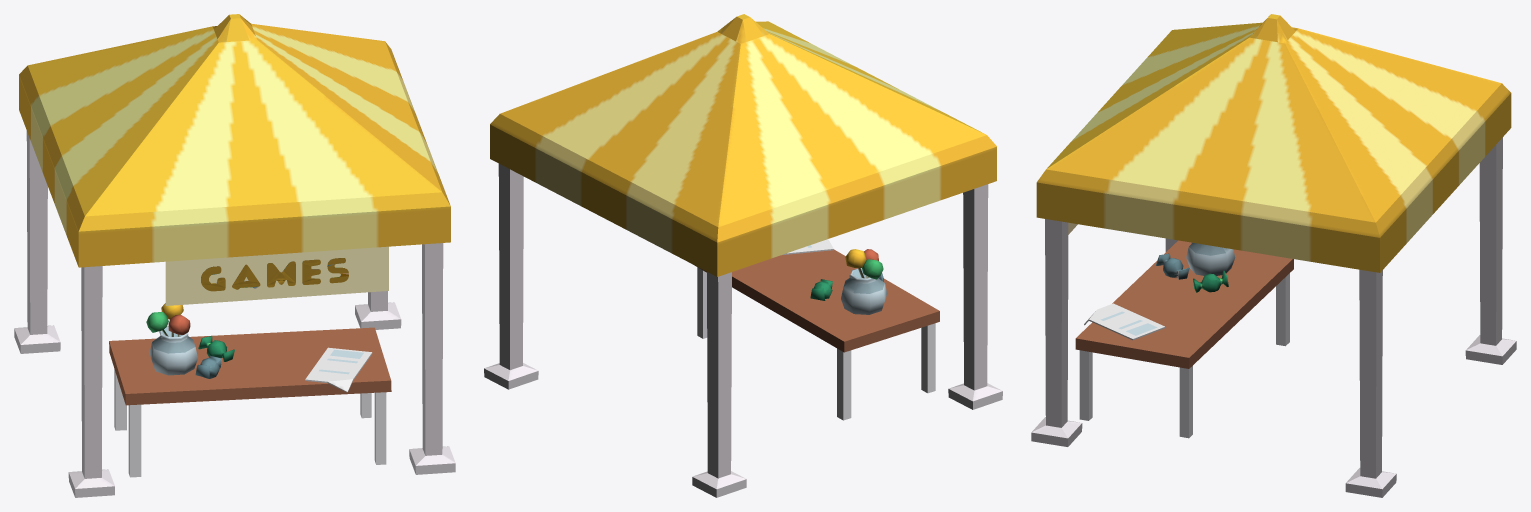
File: TentGame.fbx
3 views of the same model, side by side, from view 1: azimuth 30°, elevation 25°; view 2: azimuth 150°, elevation 25°; view 3: azimuth 270°, elevation 25° (orthographic). The views are drawn at different scales.
Parts seen in each view (by area): view 1: All_Baked.001; view 2: All_Baked.001; view 3: All_Baked.001.
Boxes of the visible parts, x1,y1,x2,y2 form: All_Baked.001: (14,14,455,497); All_Baked.001: (484,14,1002,497); All_Baked.001: (1031,14,1516,497).
Bounding box in the file's own units: 1472 × 1269 × 1472.
